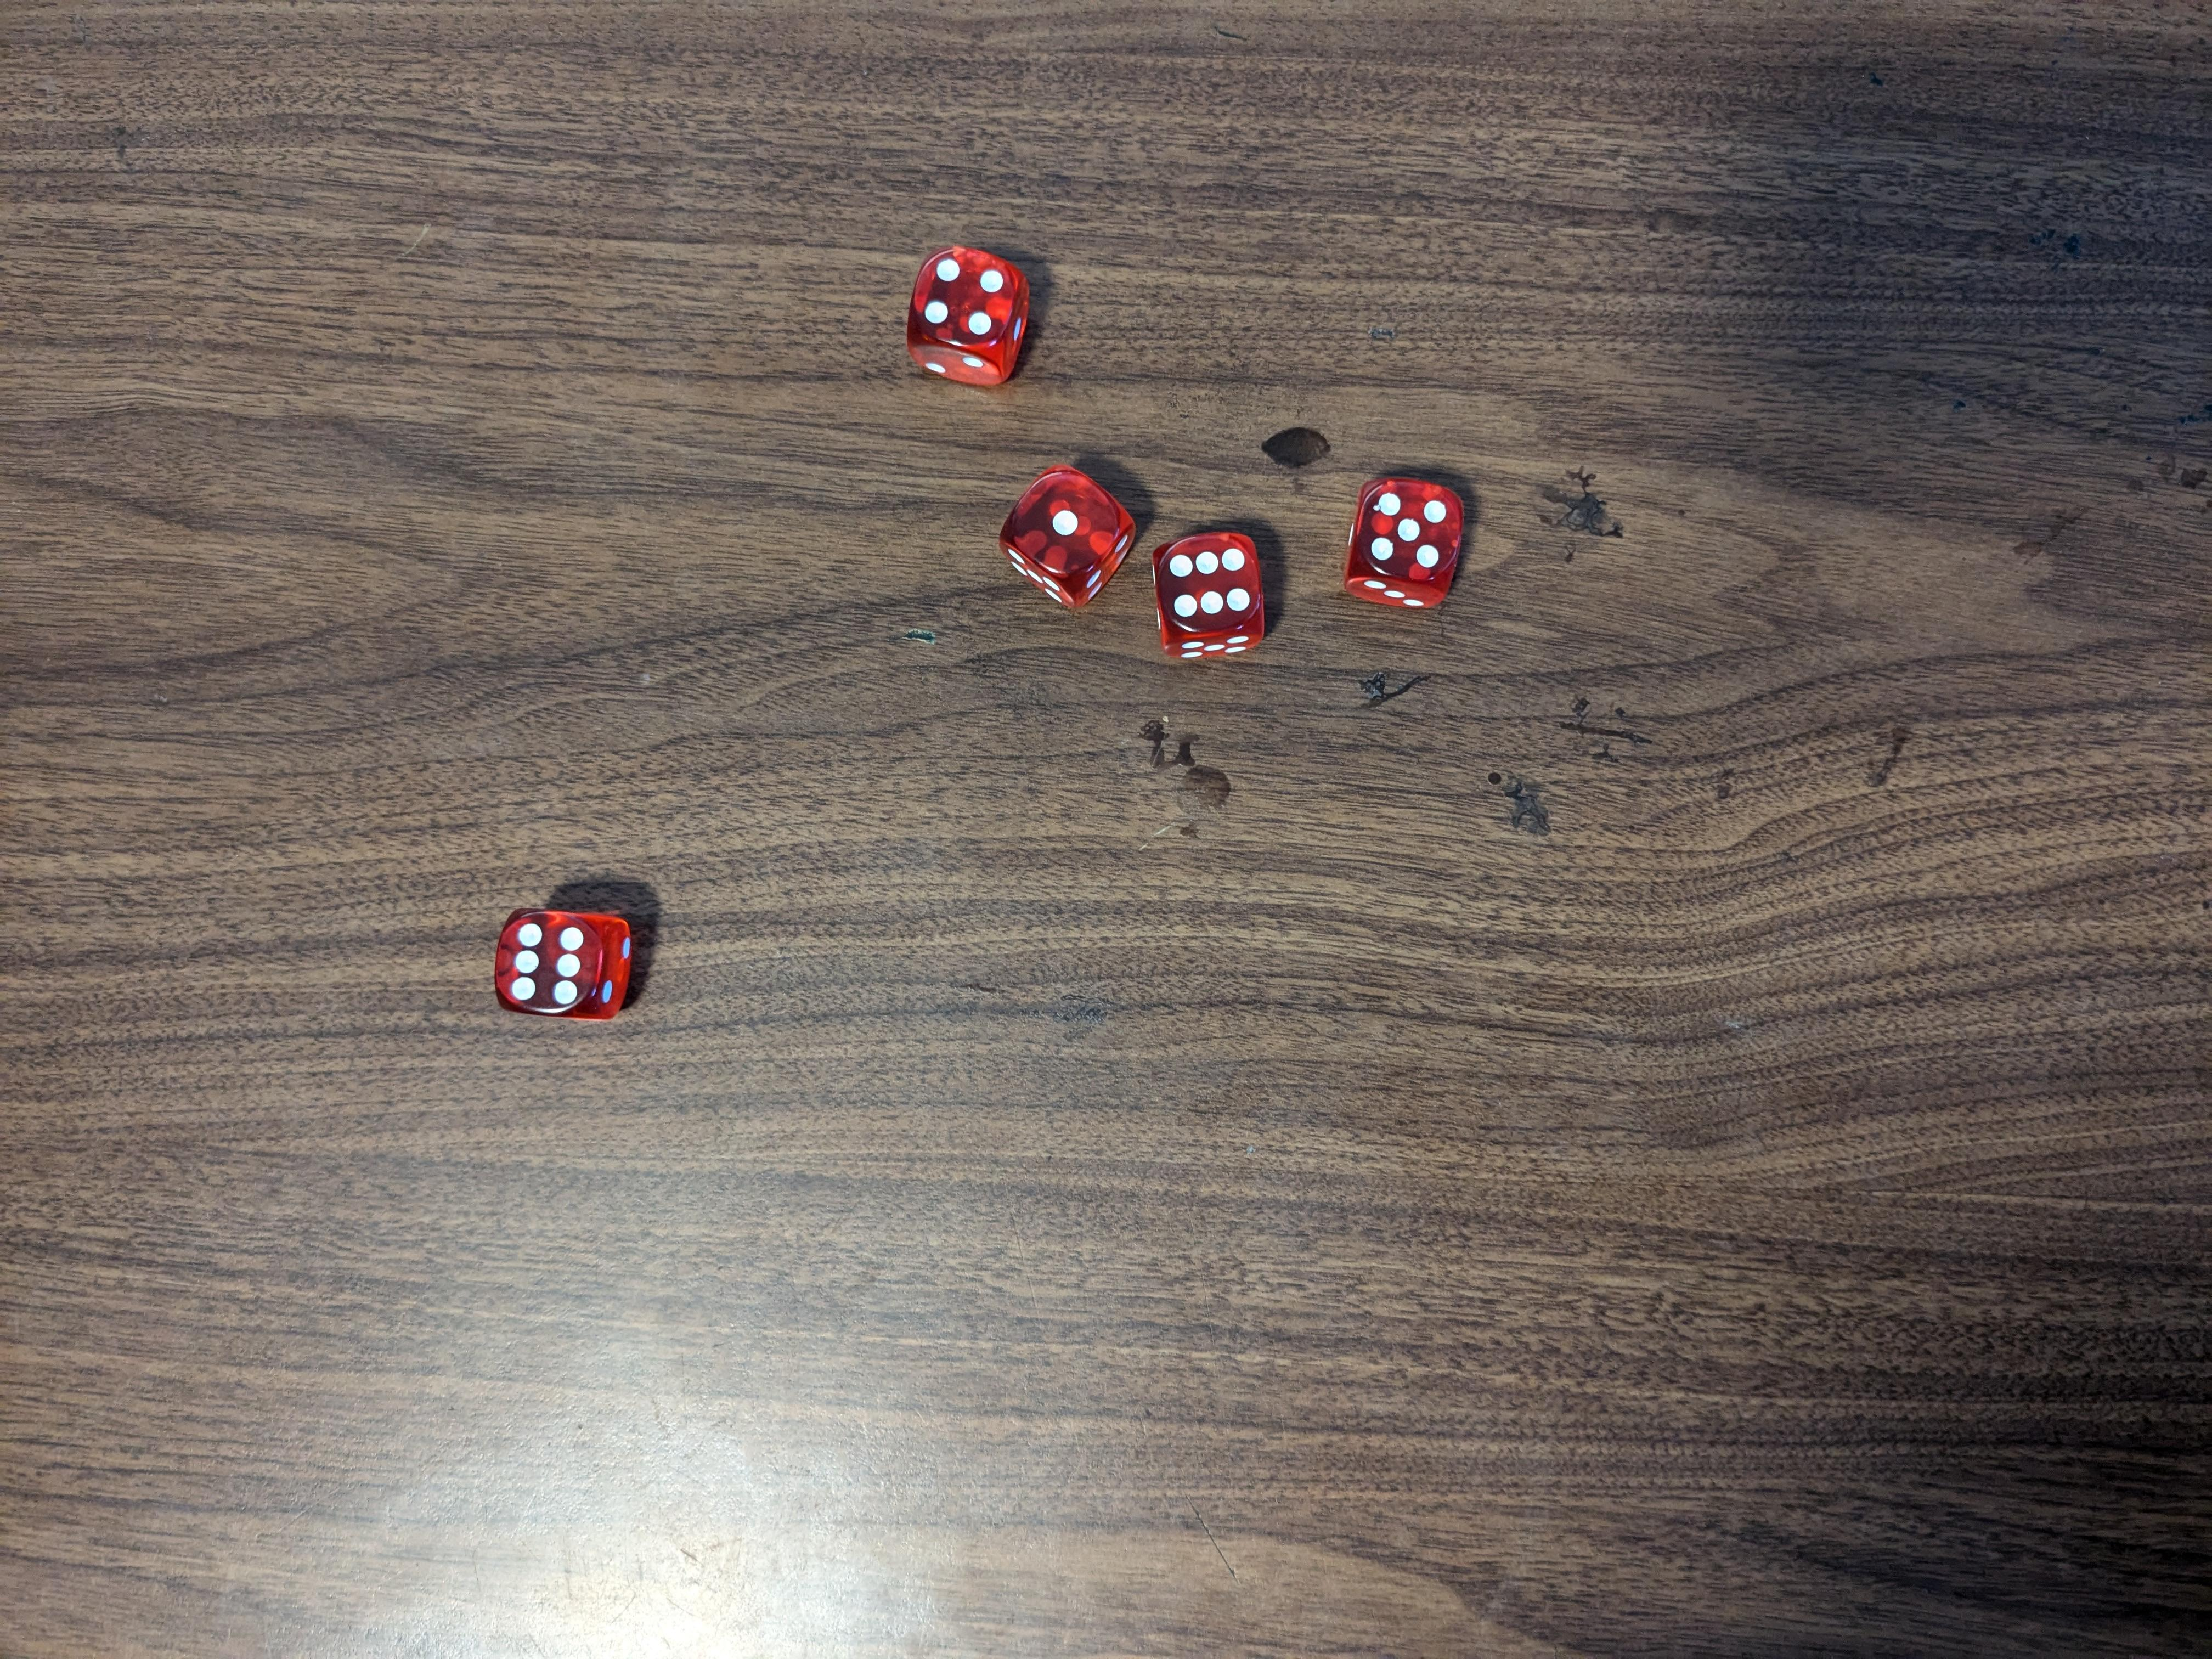five: (1338, 476, 1472, 613)
four: (909, 244, 1033, 383)
one: (991, 455, 1143, 603)
six: (486, 906, 637, 1025), (1148, 521, 1270, 667)
